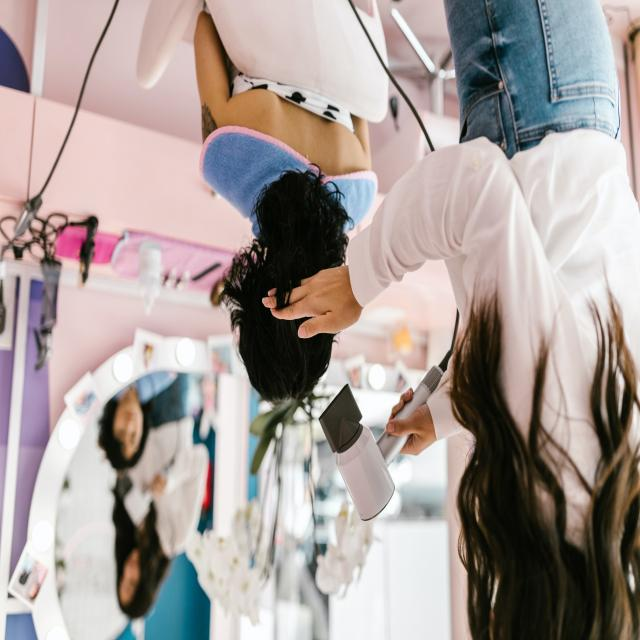dryer: (317, 348, 453, 524)
